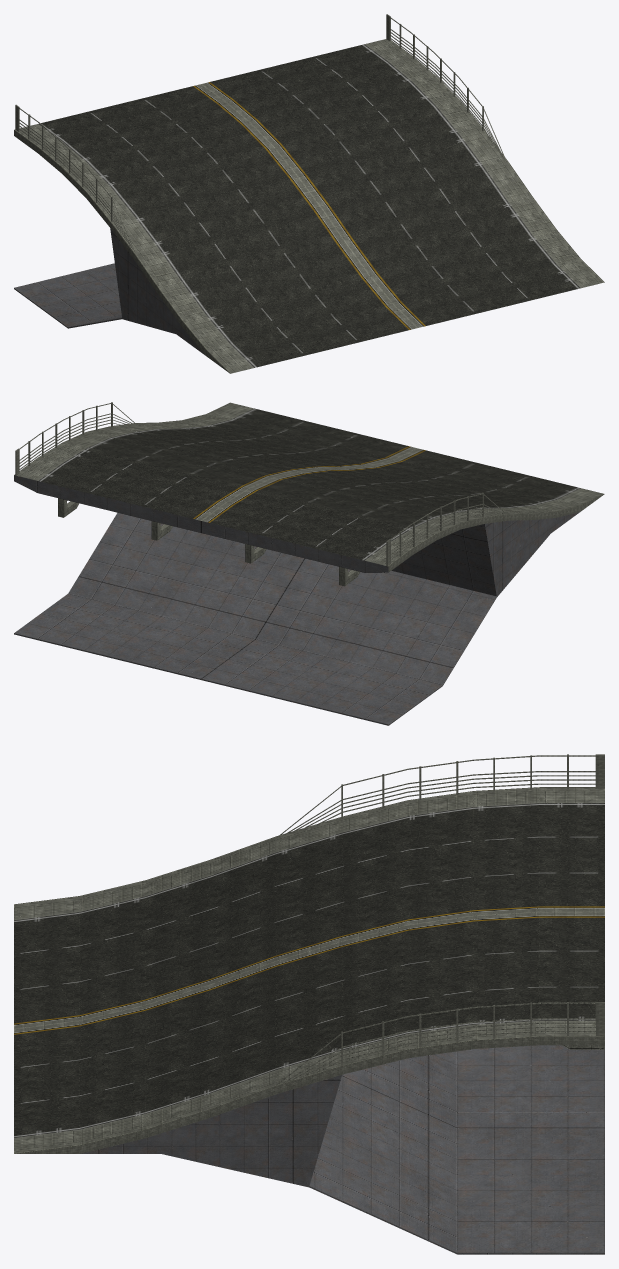
File: ibbstrLT01.FBX
3 views of the same model, one above another, from view 1: azimuth 30°, elevation 25°; view 2: azimuth 150°, elevation 25°; view 3: azimuth 270°, elevation 25° (orthographic). The views are drawn at different scales.
Visible parts, largest first — view 1: ibbstr01; view 2: ibbstr01; view 3: ibbstr01.
Boxes of the visible parts, x1=… form: ibbstr01: x1=14, y1=14, x2=604, y2=373; ibbstr01: x1=14, y1=402, x2=604, y2=725; ibbstr01: x1=14, y1=754, x2=604, y2=1254.
Size of what is drawn, in the model's own units: 64 by 64 by 30.
